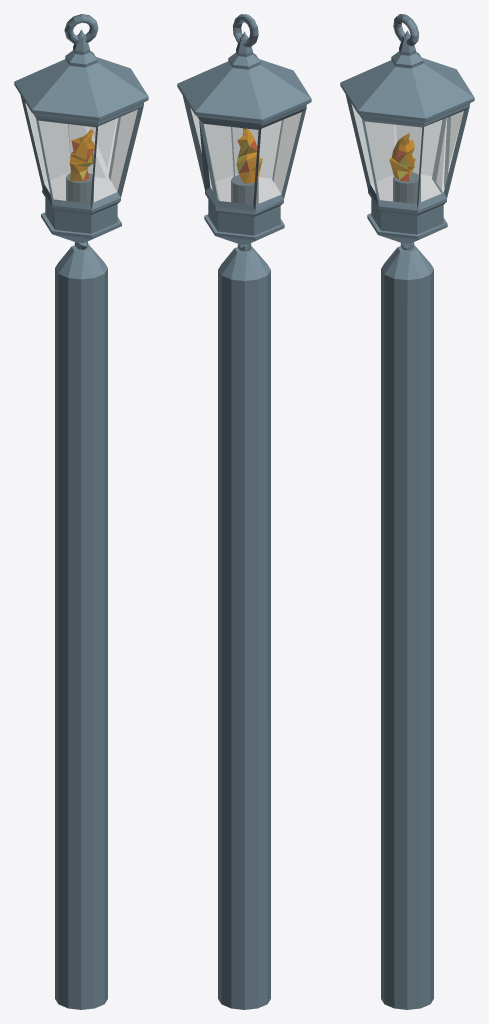
The model's file is Lantern.glb.
3 renders of one model, left to right at view 1: azimuth 30°, elevation 25°; view 2: azimuth 150°, elevation 25°; view 3: azimuth 330°, elevation 25°, orthographic.
Parts seen in each view (by area): view 1: Node; view 2: Node; view 3: Node.
Boxes of the visible parts, x1=… form: Node: x1=14, y1=14, x2=148, y2=1009; Node: x1=177, y1=14, x2=311, y2=1009; Node: x1=340, y1=14, x2=474, y2=1009.
Bounding box in the file's own units: 0.177 × 1.43 × 0.177.
